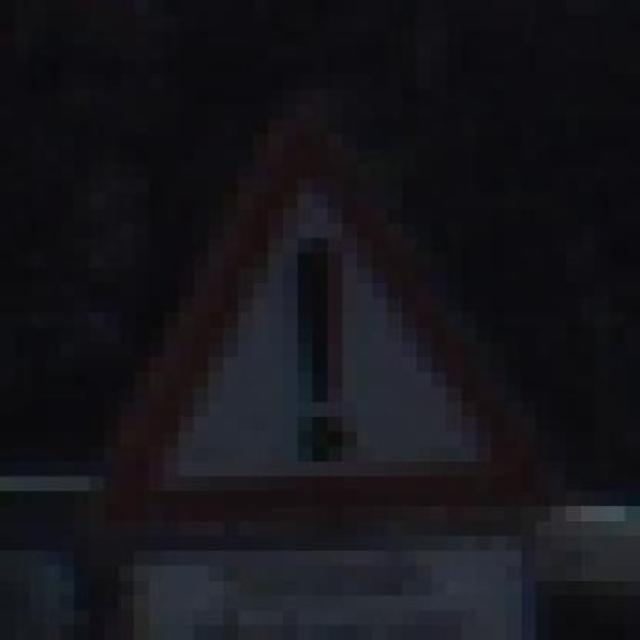Attention Please-: (75, 104, 550, 550)
